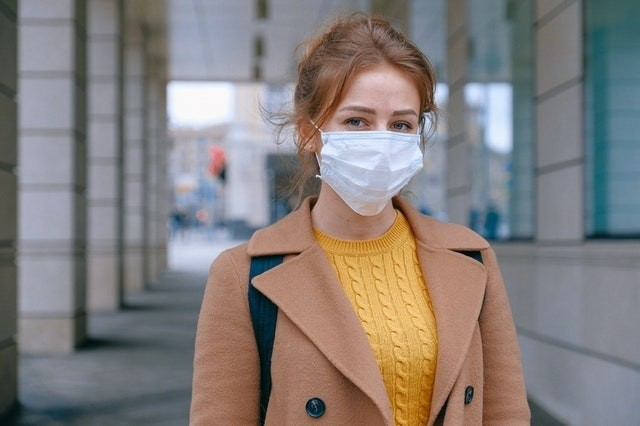face_with_mask: (293, 14, 440, 222)
